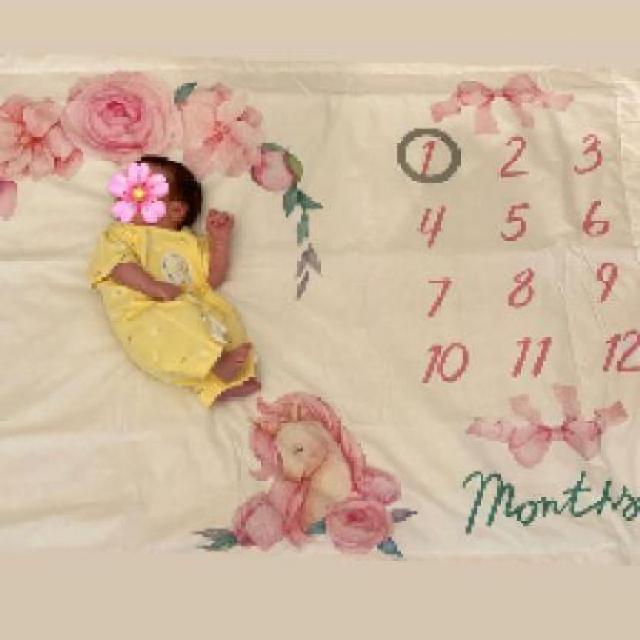child: (88, 154, 261, 409)
